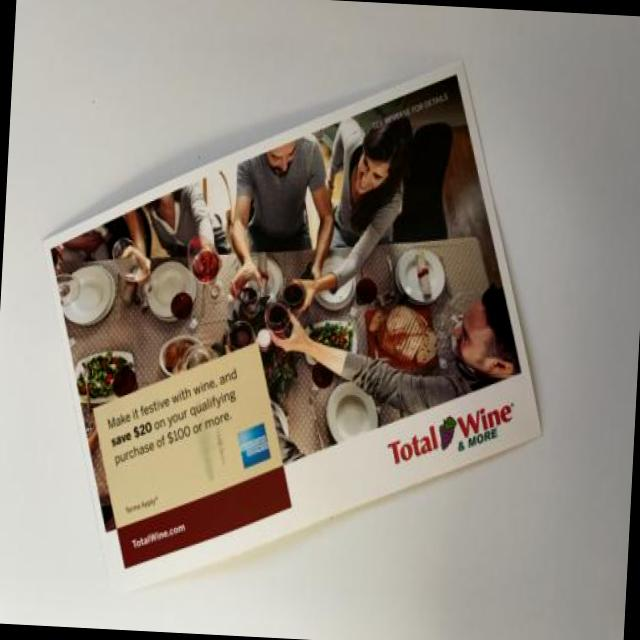paper: (55, 227, 532, 522), (124, 55, 531, 234)
